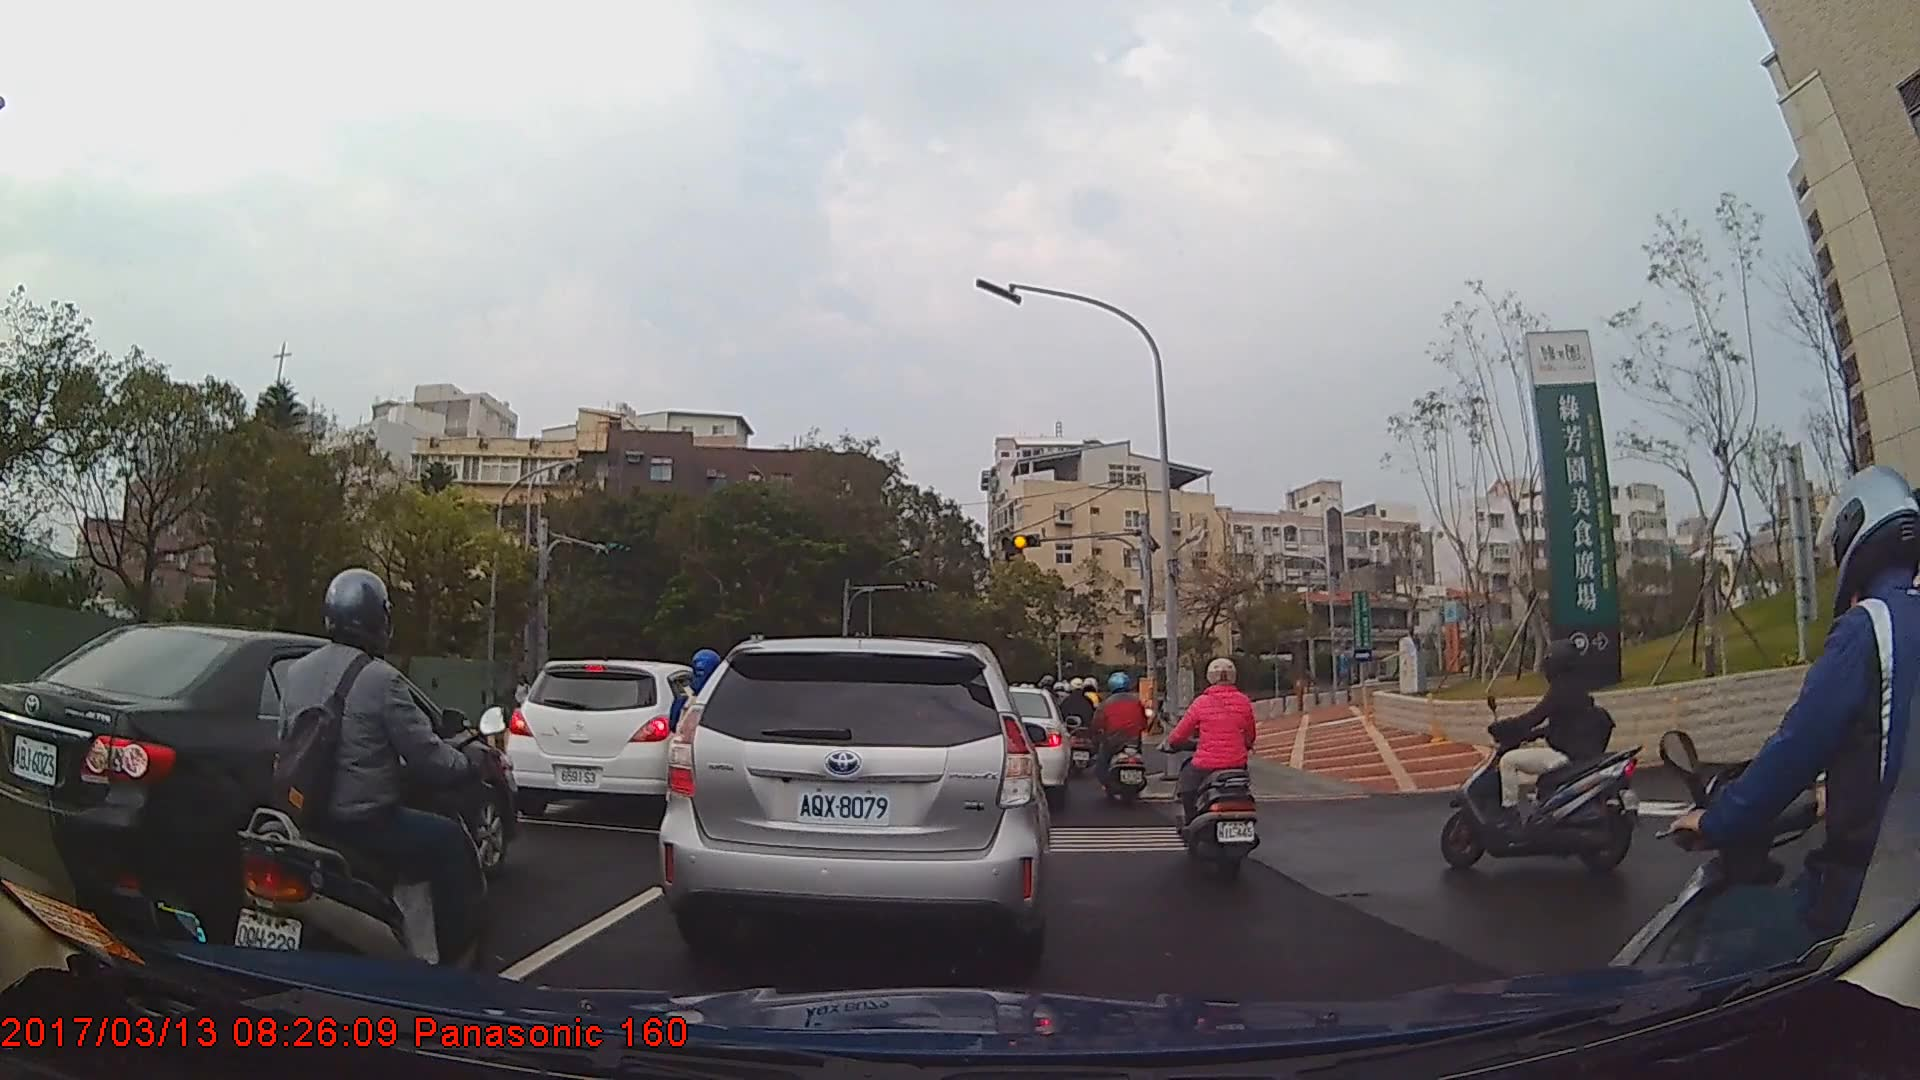pedestrian: (513, 674, 533, 730)
rider: (1595, 463, 1920, 1080), (230, 563, 496, 1021), (1443, 646, 1641, 872), (1167, 654, 1262, 878), (1093, 669, 1156, 816), (1064, 674, 1103, 779)
vehicle: (0, 621, 515, 945), (656, 635, 1051, 958), (503, 658, 725, 819), (962, 685, 1071, 803)
